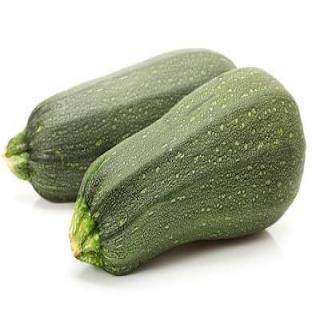Zucchini: (70, 69, 305, 274), (5, 50, 234, 201)
